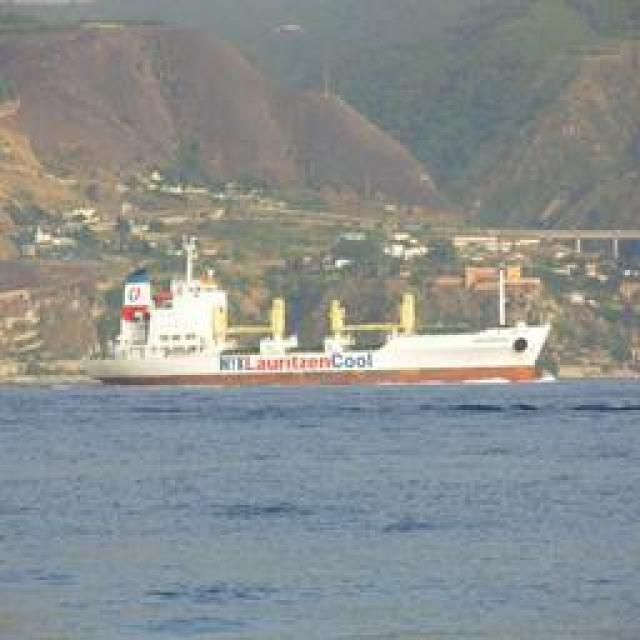CIV_Ship: (87, 299, 555, 389)
